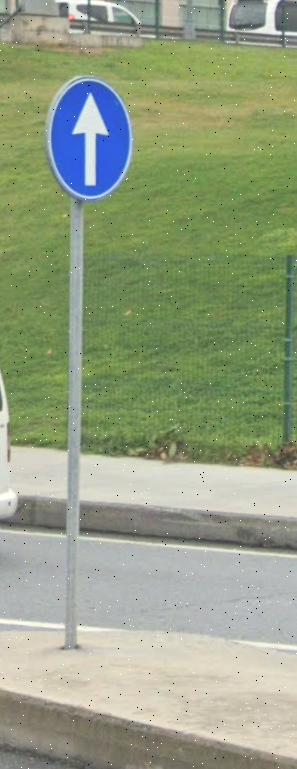forward: (56, 80, 132, 195)
